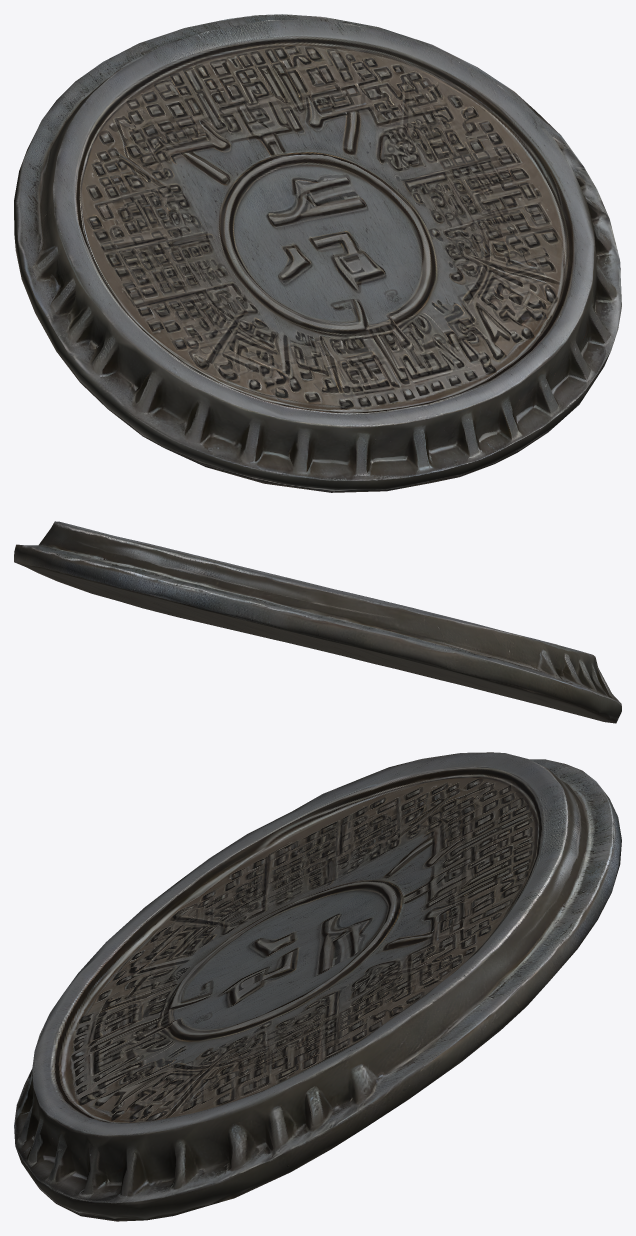
File: scrap_Manhole.fbx
3 views of the same model, one above another, from view 1: azimuth 30°, elevation 25°; view 2: azimuth 150°, elevation 25°; view 3: azimuth 270°, elevation 25° (orthographic). The views are drawn at different scales.
Parts seen in each view (by area): view 1: input; view 2: input; view 3: input.
Part boxes in pixels (x1,y1,x2,y2): input: (14,14,621,492); input: (14,521,621,723); input: (14,752,621,1221).
Bounding box in the file's own units: 99.72 × 49.2 × 81.7.
Materials: 1 (1 with a texture image).
